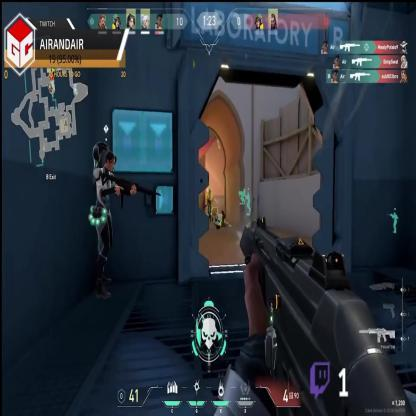enemy: (207, 188, 212, 220)
enemy_head: (208, 189, 211, 195)
